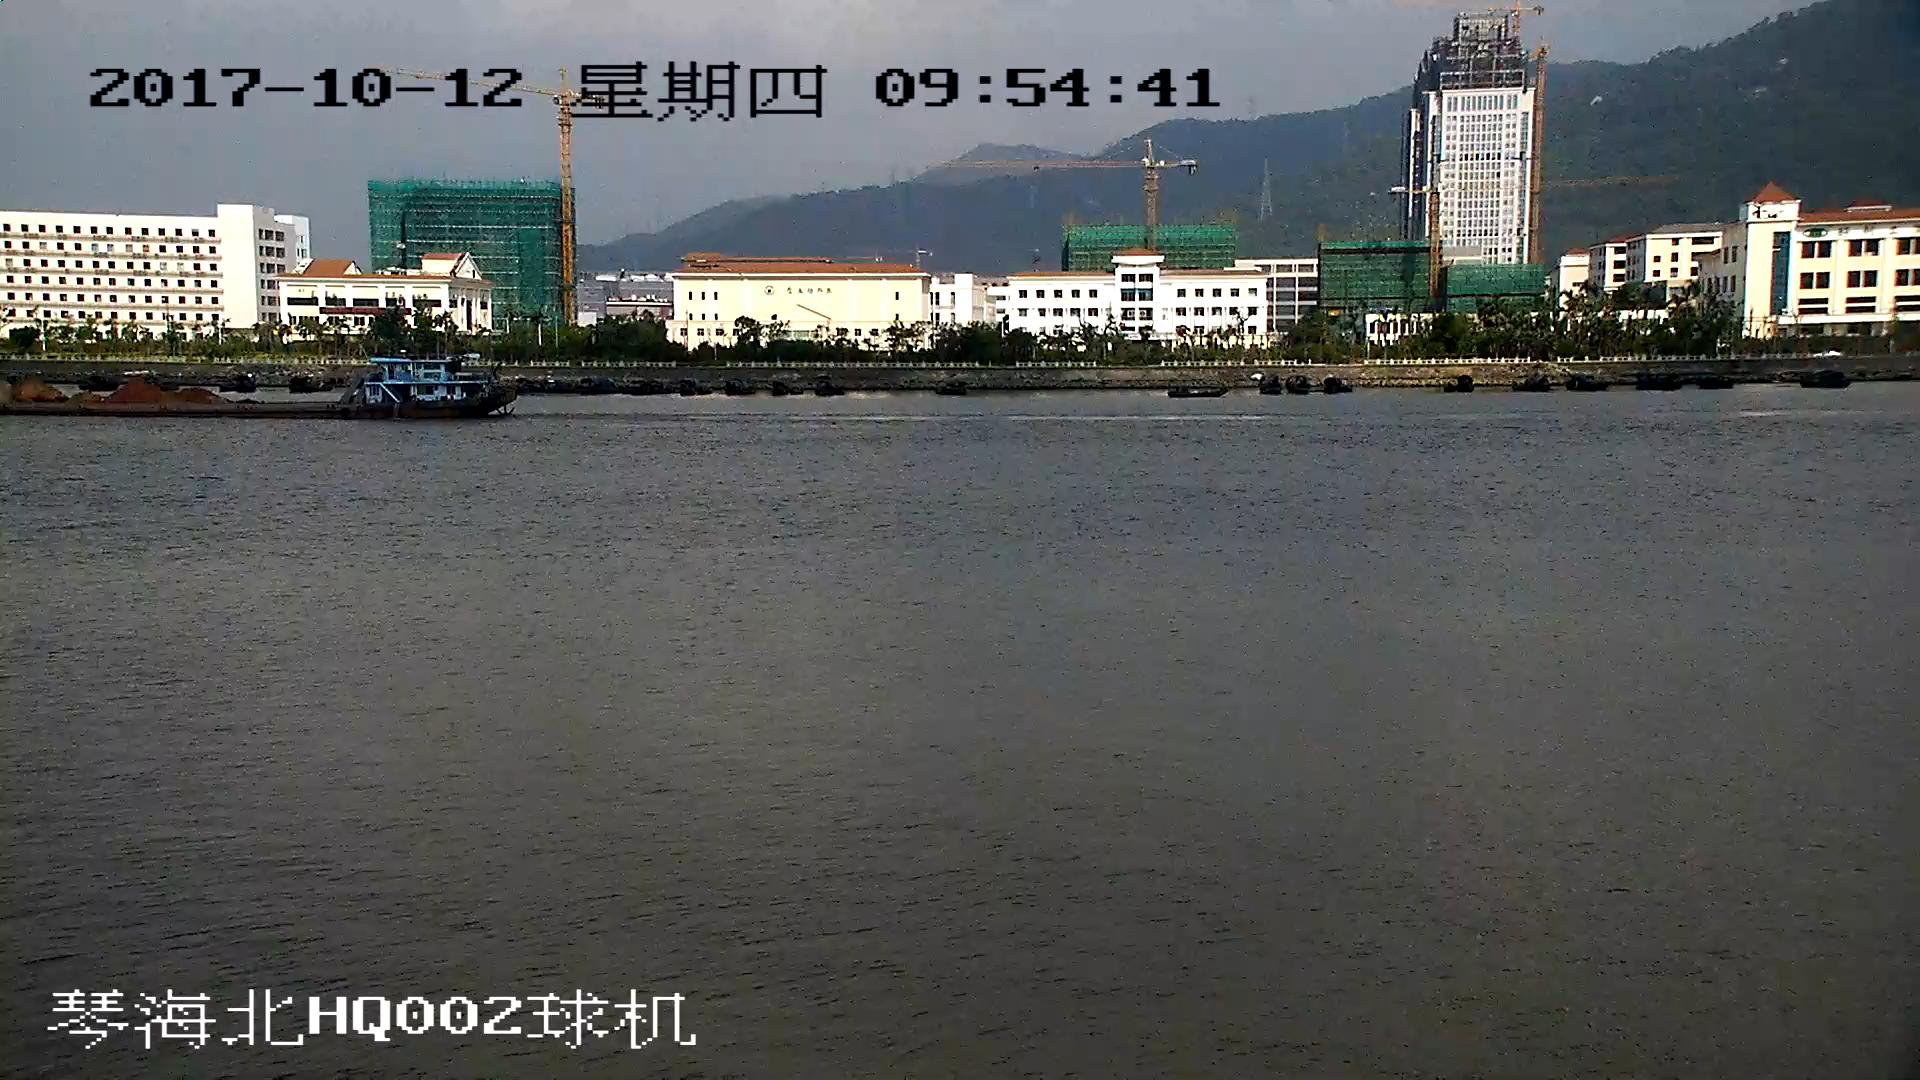ore carrier: (1, 357, 522, 416)
